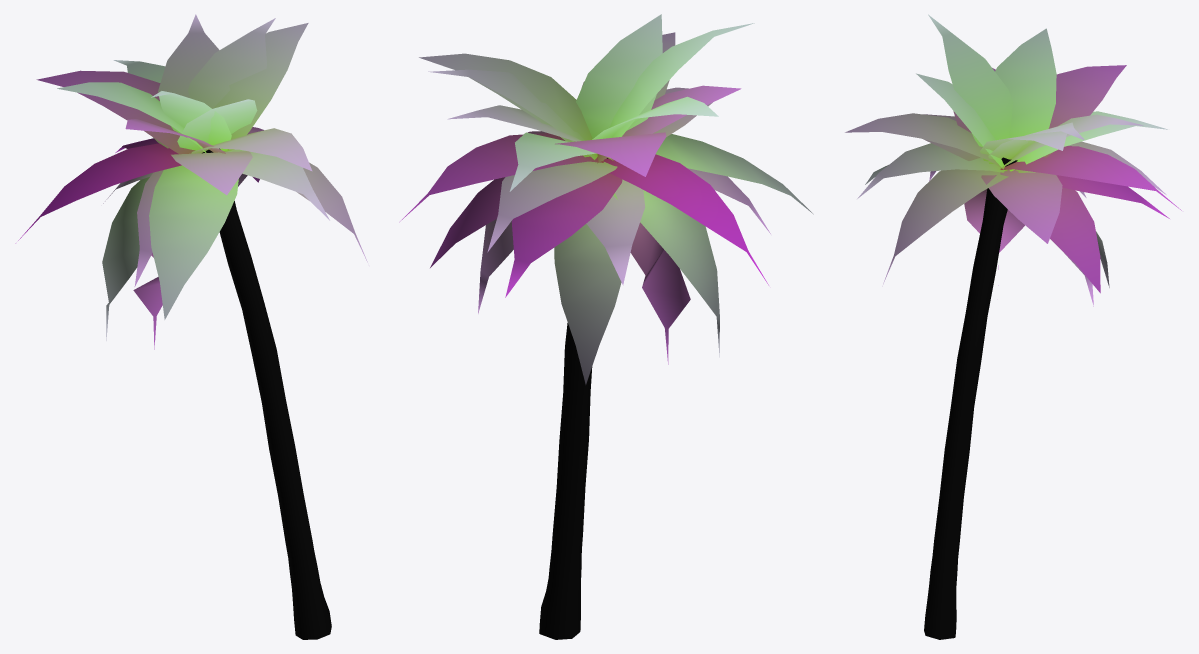
Rendered from tree_palm_c_lod1.glb.
The picture shows the model from 3 angles, left to right: view 1: azimuth 30°, elevation 25°; view 2: azimuth 150°, elevation 25°; view 3: azimuth 270°, elevation 25°; orthographic projection. The views are drawn at different scales.
Parts seen in each view (by area): view 1: tree_palm_c_lod1; view 2: tree_palm_c_lod1; view 3: tree_palm_c_lod1.
Part boxes in pixels (x1,y1,x2,y2): tree_palm_c_lod1: (15,14,367,639); tree_palm_c_lod1: (399,14,813,639); tree_palm_c_lod1: (845,14,1181,639).
Size of the model in its own units: 6.84 by 12.49 by 7.08.
